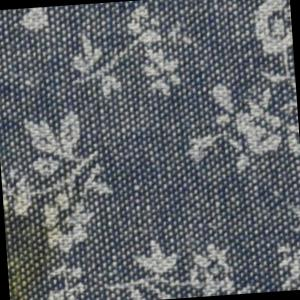Oil Stain: (4, 200, 75, 300)
